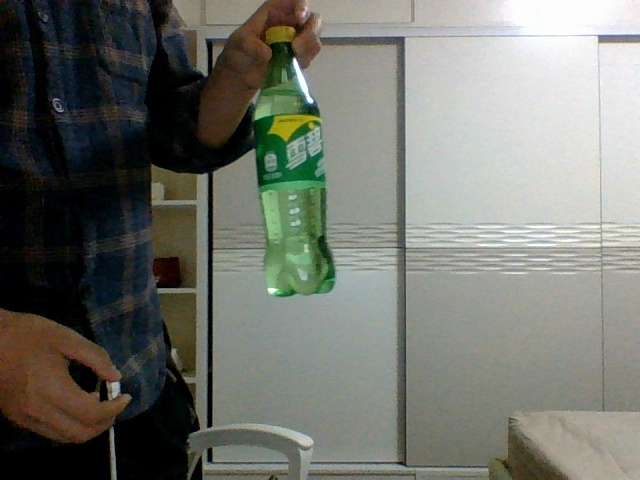Sprite: (253, 26, 337, 297)
